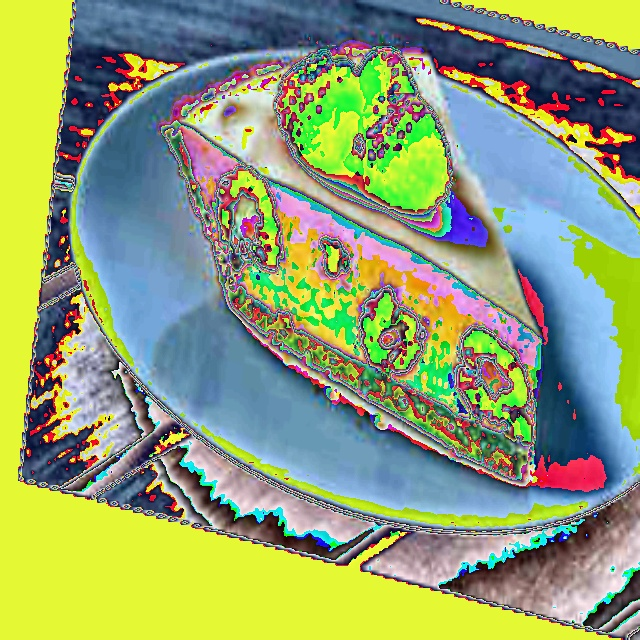background: (161, 41, 544, 483)
